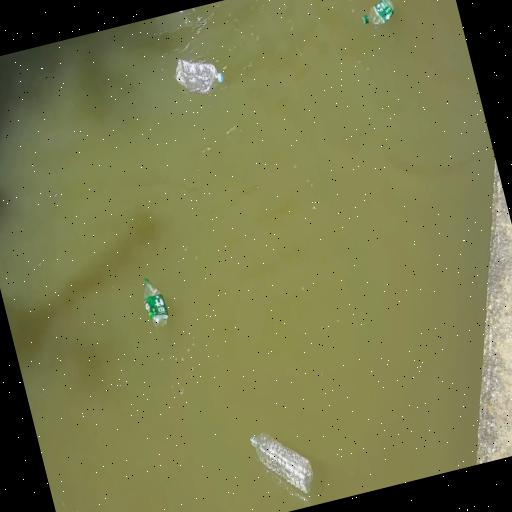plastic: (251, 433, 313, 494), (176, 59, 223, 94), (143, 278, 169, 332), (363, 0, 394, 26)
